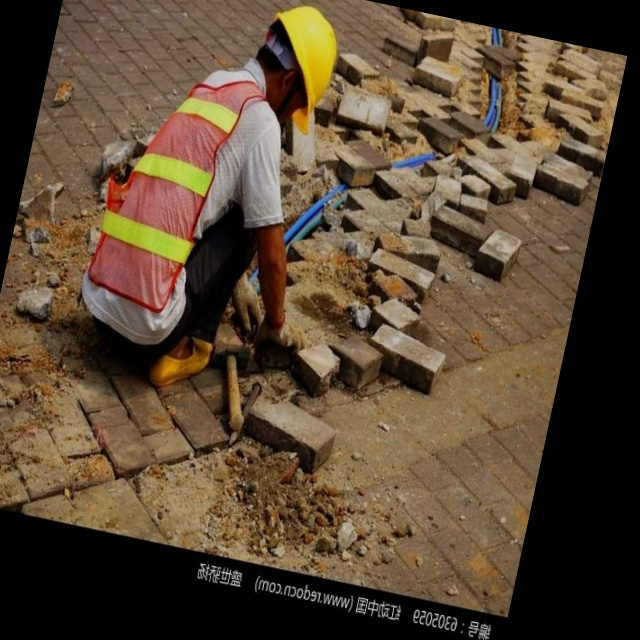Con_Casco: (251, 0, 347, 138)
Con_Chaleco: (76, 56, 282, 345)
